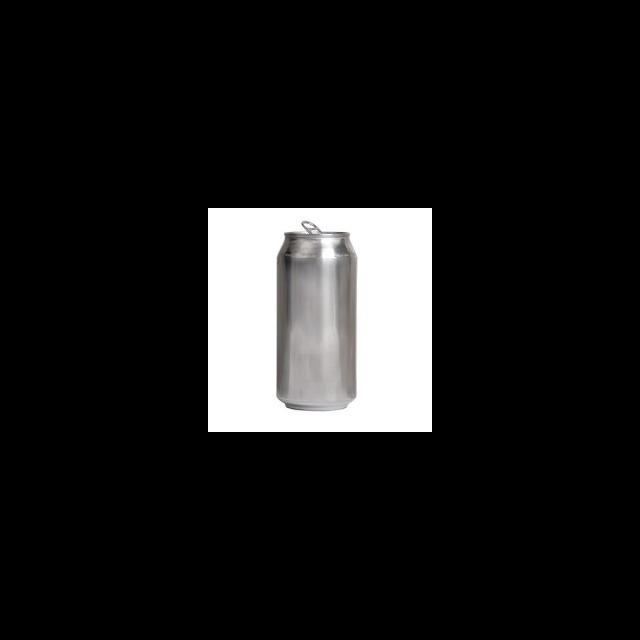metal: (269, 215, 363, 415)
